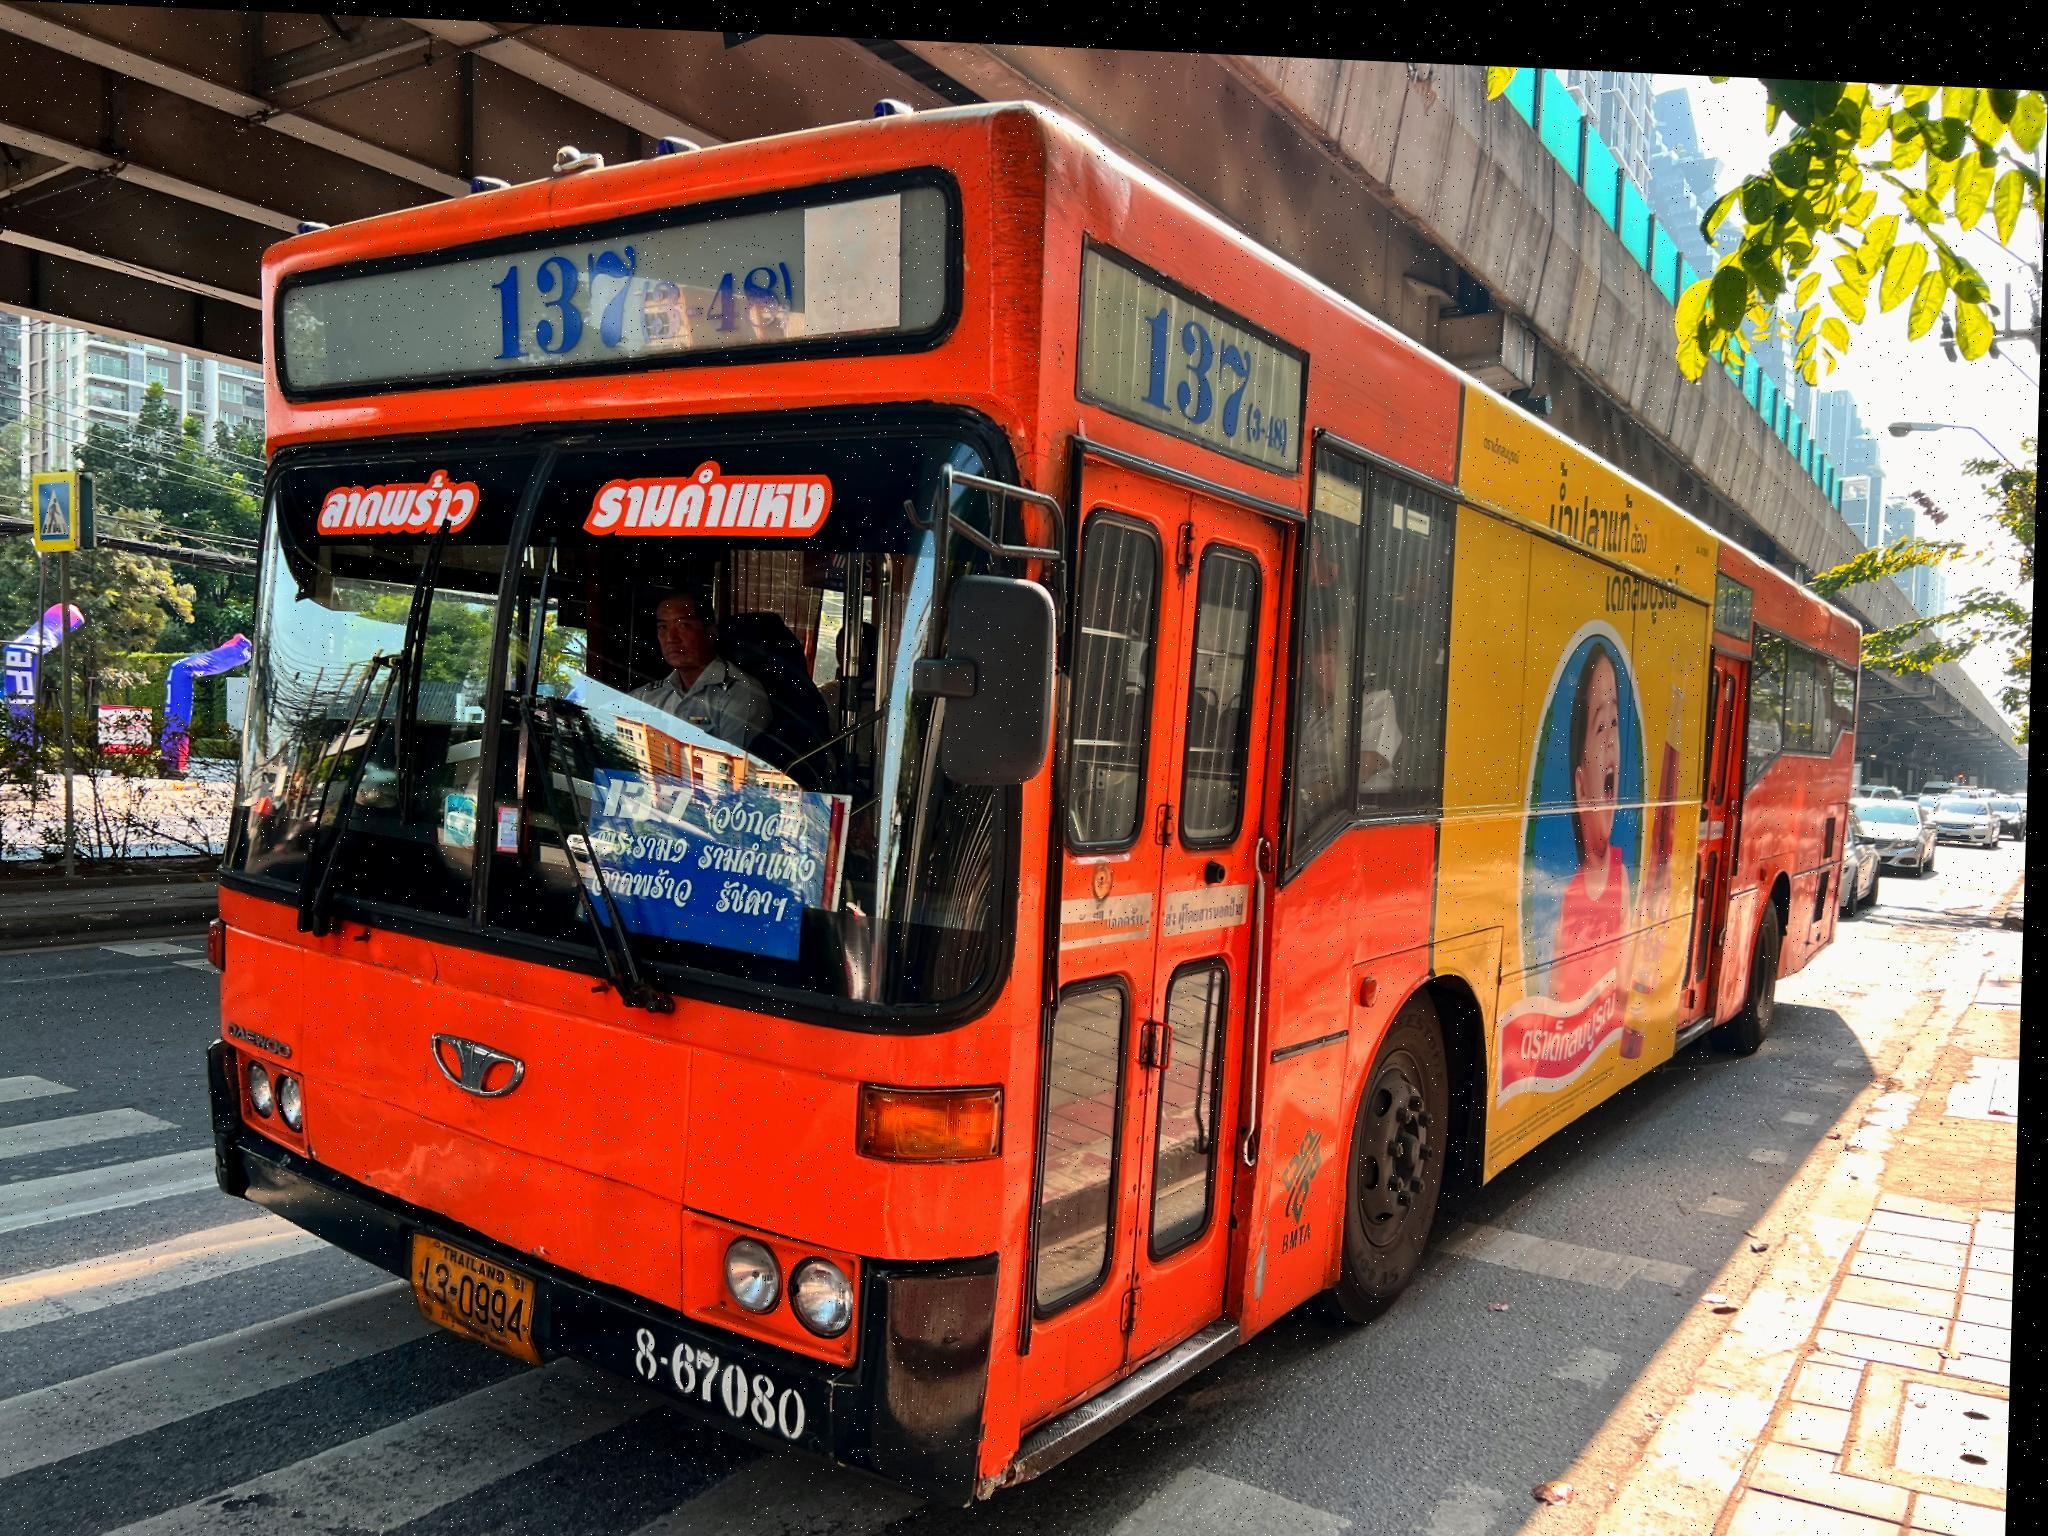BMTA-bus: (211, 92, 1872, 1501)
Bus Line Number: (466, 190, 810, 381), (1122, 255, 1301, 470)
Destination Sign: (572, 753, 858, 954), (631, 1305, 827, 1442)
